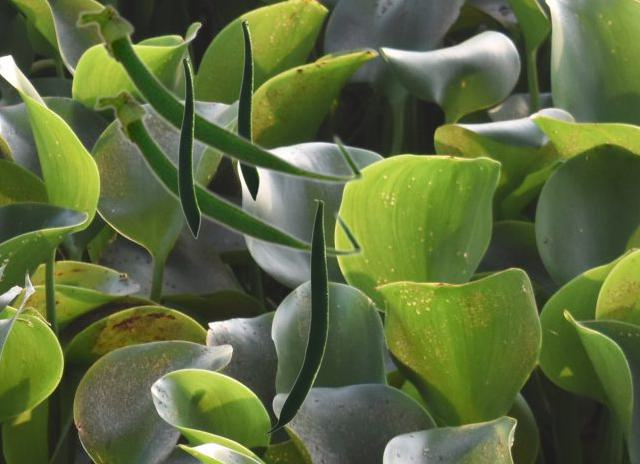french_bean: (73, 1, 365, 185), (91, 86, 364, 258), (263, 199, 327, 433), (236, 18, 259, 201), (177, 55, 200, 238)
